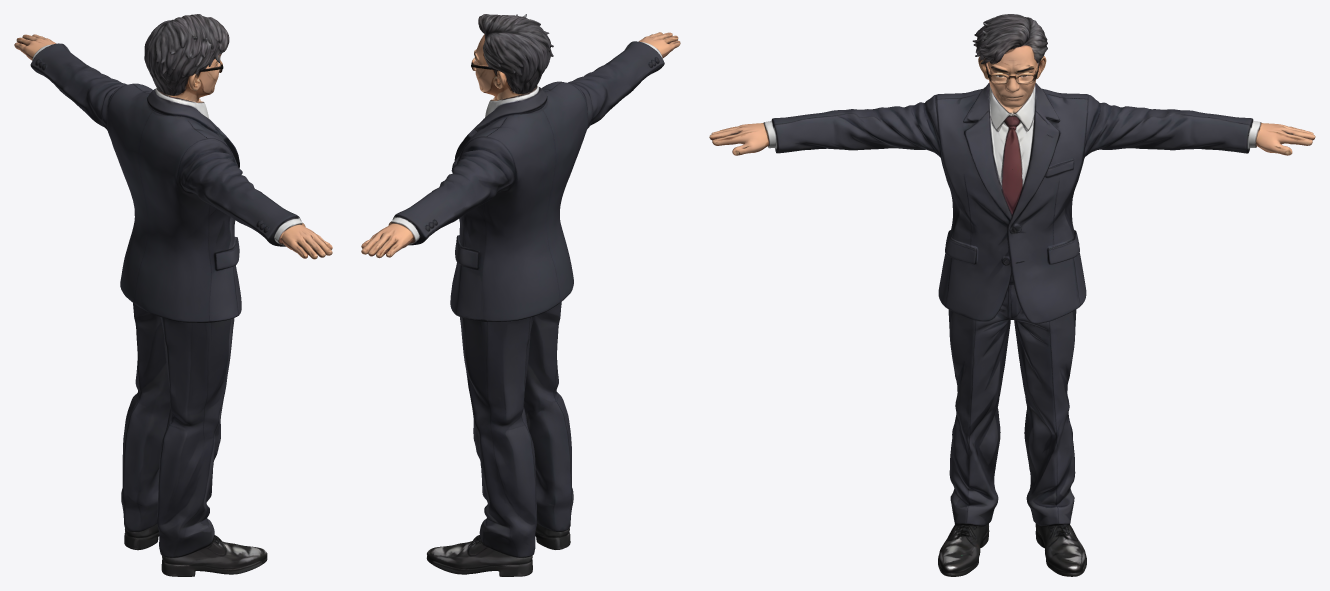
Rendered from salaryman-visitor-05.glb.
3 views of the same model, side by side, from view 1: azimuth 30°, elevation 25°; view 2: azimuth 150°, elevation 25°; view 3: azimuth 270°, elevation 25° (orthographic).
Parts seen in each view (by area): view 1: tripo_node_512ef81a-5727-4d20-b22a-7d78226031ba; view 2: tripo_node_512ef81a-5727-4d20-b22a-7d78226031ba; view 3: tripo_node_512ef81a-5727-4d20-b22a-7d78226031ba.
Part boxes in pixels (x1,y1,x2,y2): tripo_node_512ef81a-5727-4d20-b22a-7d78226031ba: (14, 14, 332, 576); tripo_node_512ef81a-5727-4d20-b22a-7d78226031ba: (361, 14, 680, 576); tripo_node_512ef81a-5727-4d20-b22a-7d78226031ba: (709, 14, 1315, 576).
Bounding box in the file's own units: 0.1951 × 0.9789 × 0.9998.
Materials: 1 (1 with a texture image).
